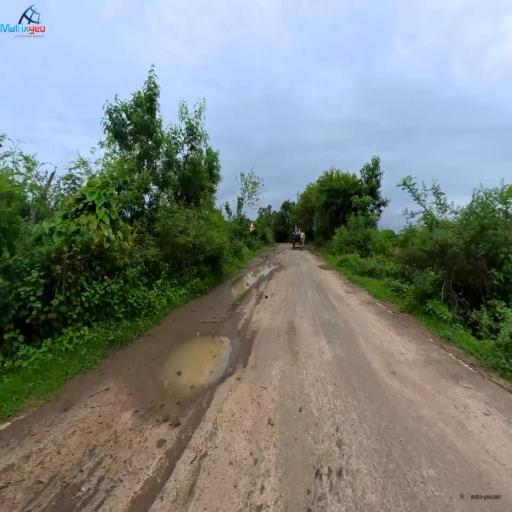ravelling: (270, 351, 381, 485)
